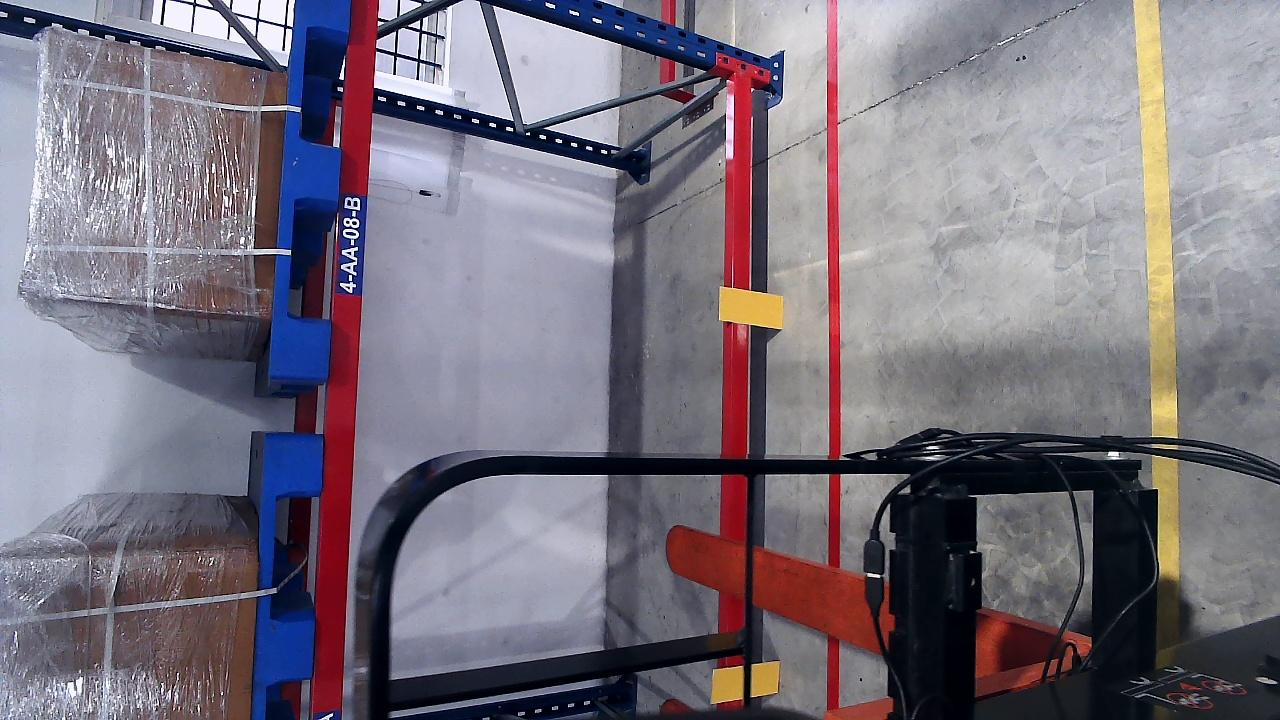h_rack: (343, 4, 380, 614), (726, 73, 758, 545)
orange_strip: (719, 287, 783, 329), (748, 661, 781, 697)
red_line: (822, 6, 844, 444)
yellow_line: (1133, 0, 1180, 434)
